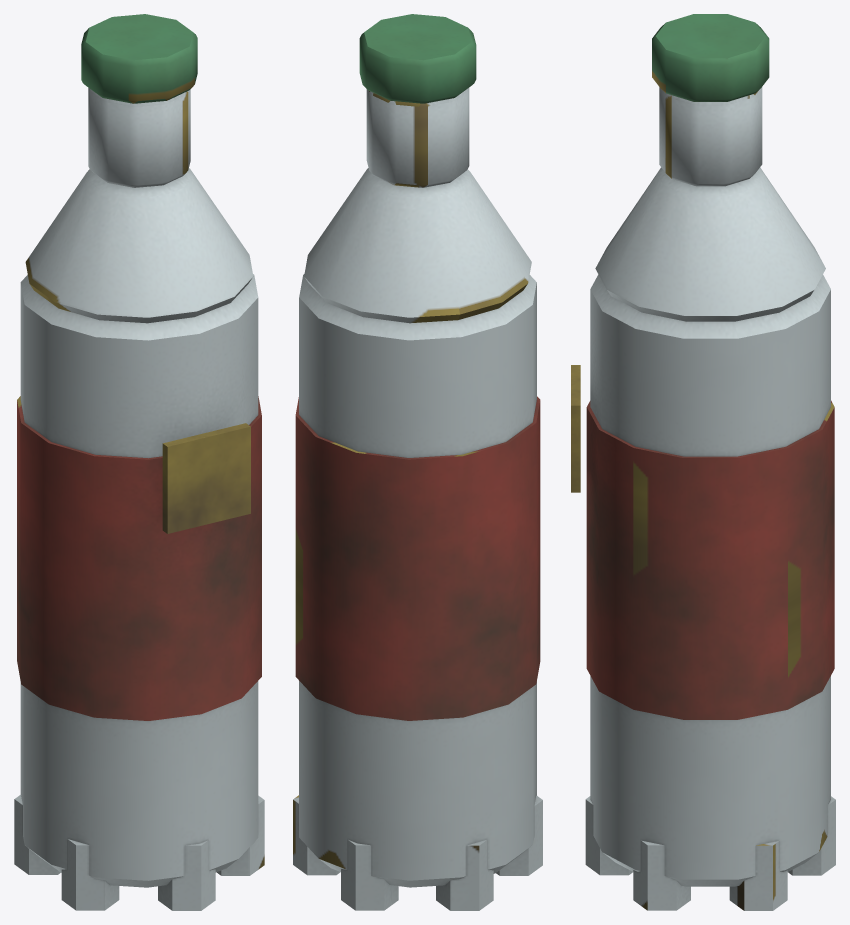
Rendered from g67_pz_bottle_4.glb.
3 views of the same model, side by side, from view 1: azimuth 30°, elevation 25°; view 2: azimuth 150°, elevation 25°; view 3: azimuth 270°, elevation 25° (orthographic).
Visible parts, largest first — view 1: g67_pz_bottle_4, sticker; view 2: g67_pz_bottle_4; view 3: g67_pz_bottle_4, sticker.
Part boxes in pixels (left/top/right/bottom): g67_pz_bottle_4: left=14, top=14, right=264, bottom=910; sticker: left=162, top=423, right=250, bottom=533; g67_pz_bottle_4: left=293, top=14, right=542, bottom=910; g67_pz_bottle_4: left=585, top=14, right=835, bottom=910; sticker: left=571, top=365, right=580, bottom=492.
Size of the model in its own units: 0.1004 by 0.38 by 0.11.
Materials: 1 (1 with a texture image).
